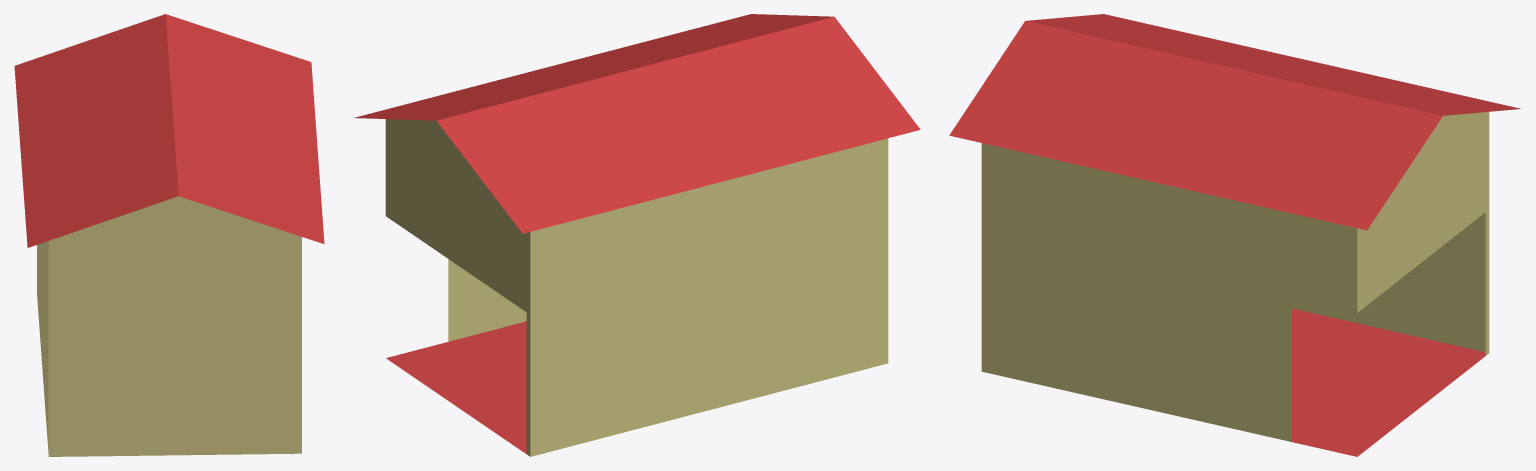
3 renders of one model, left to right at view 1: azimuth 30°, elevation 25°; view 2: azimuth 150°, elevation 25°; view 3: azimuth 270°, elevation 25°, orthographic. The views are drawn at different scales.
Bounding box in the file's own units: 16.02 × 17.9 × 10.18.
